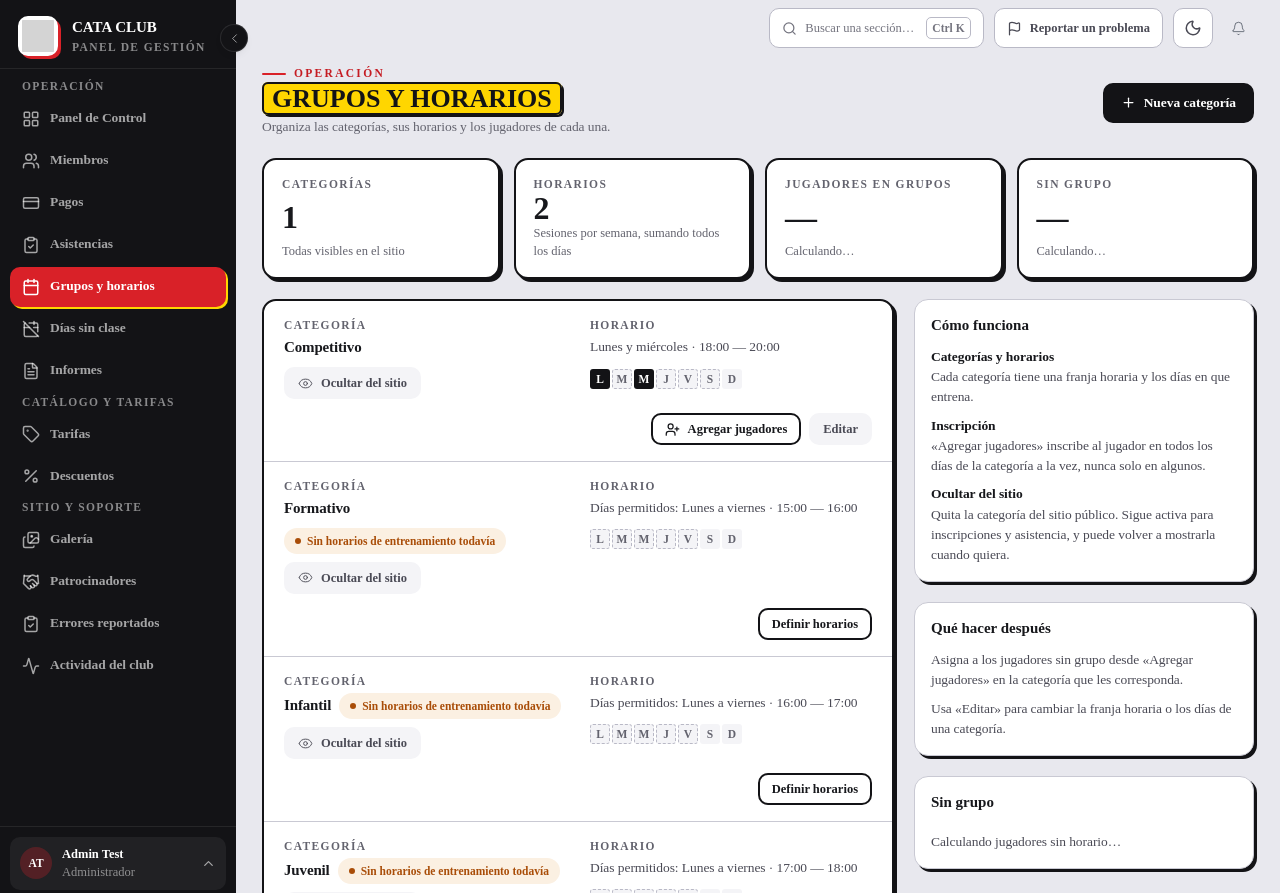
Scenario: GroupsPage — the landing-publication toggle › hides a published categoría on click, PATCHes false, and marks the card
The image size is (1280, 893).
Click the button with aria-label "Ocultar Competitivo del sitio" at (352, 383), box [284, 367, 421, 399]
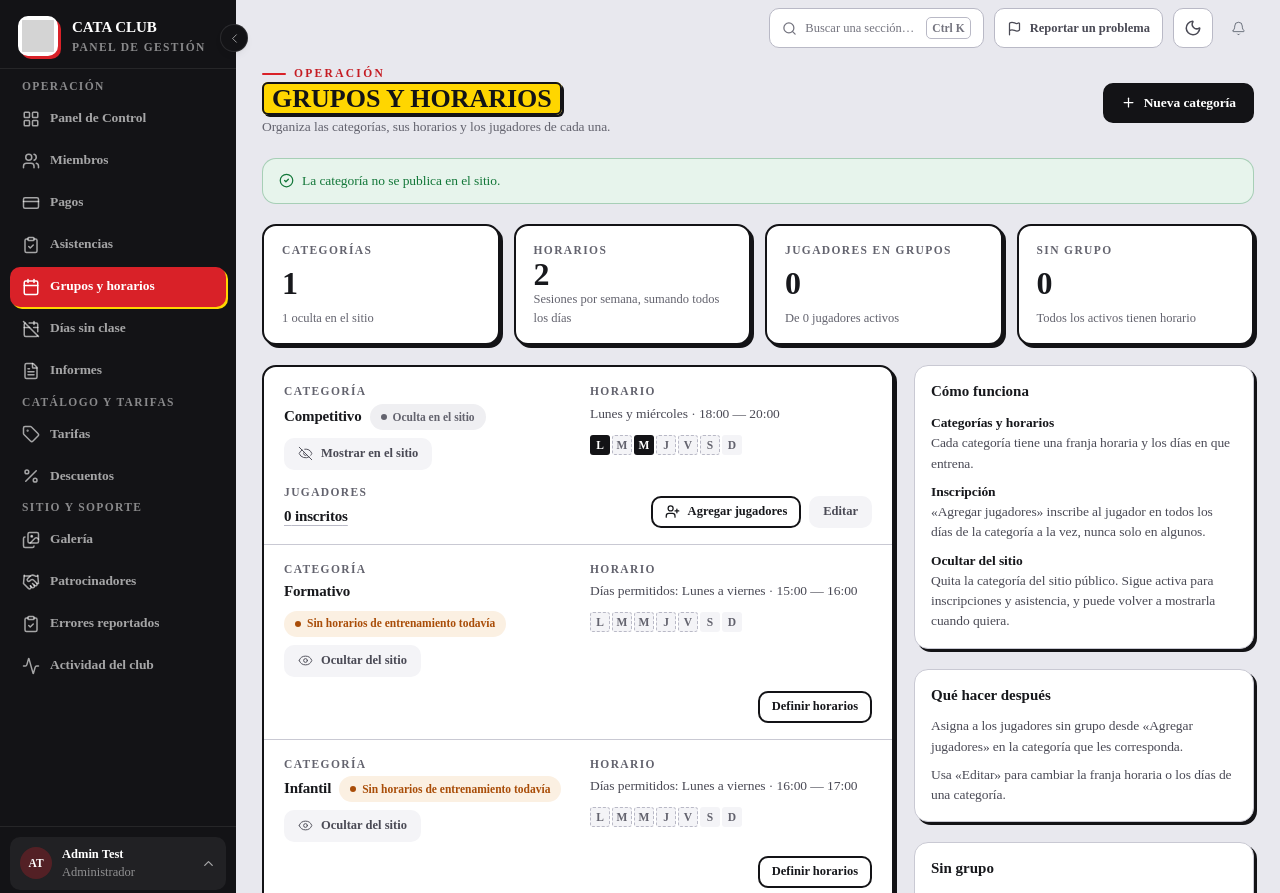
Now the text "Oculta en el sitio" is shown, box [370, 404, 486, 430]
Now the text "La categoría no se publica en el sitio." is shown, box [302, 171, 500, 191]
